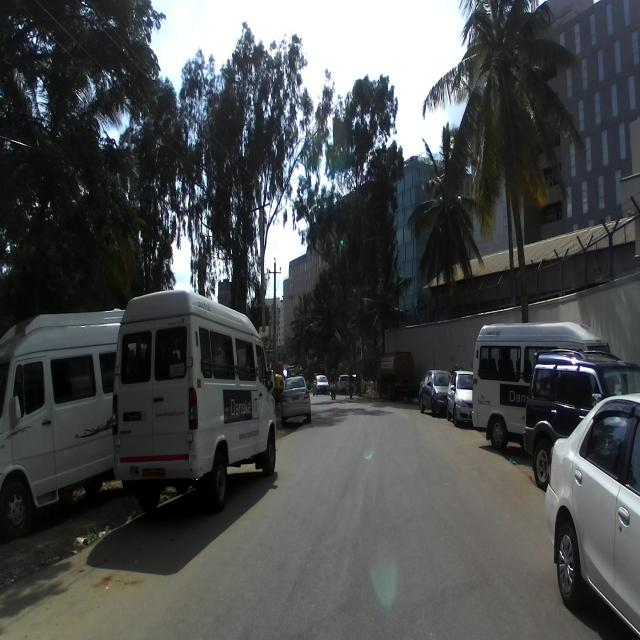car: (546, 389, 639, 639), (522, 349, 640, 491)
mini-bus: (111, 290, 282, 517), (0, 305, 131, 544), (471, 318, 609, 457)
